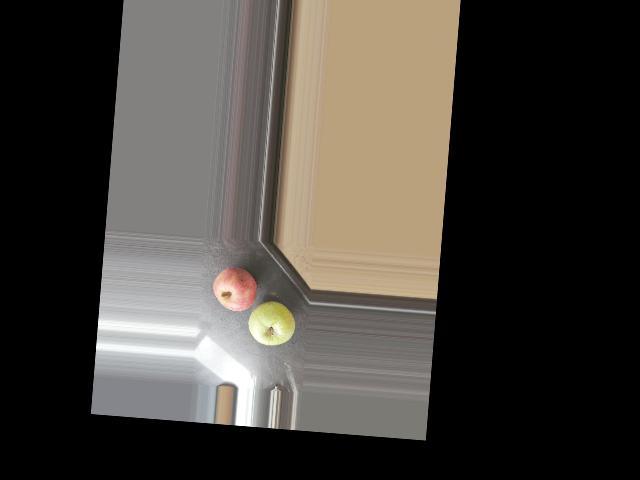apple: (209, 263, 256, 314)
